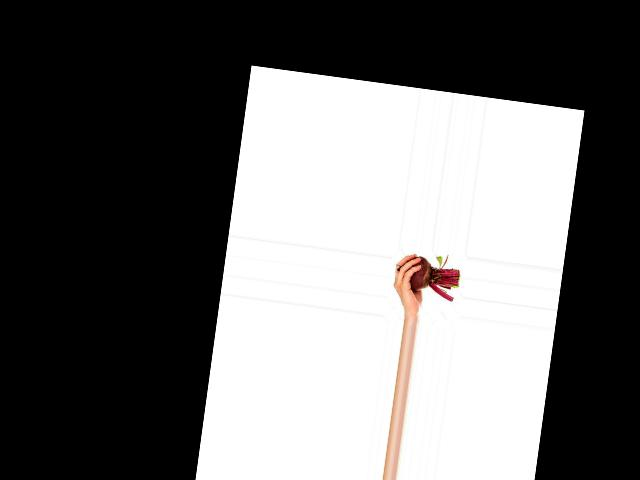beet: (393, 248, 462, 302)
